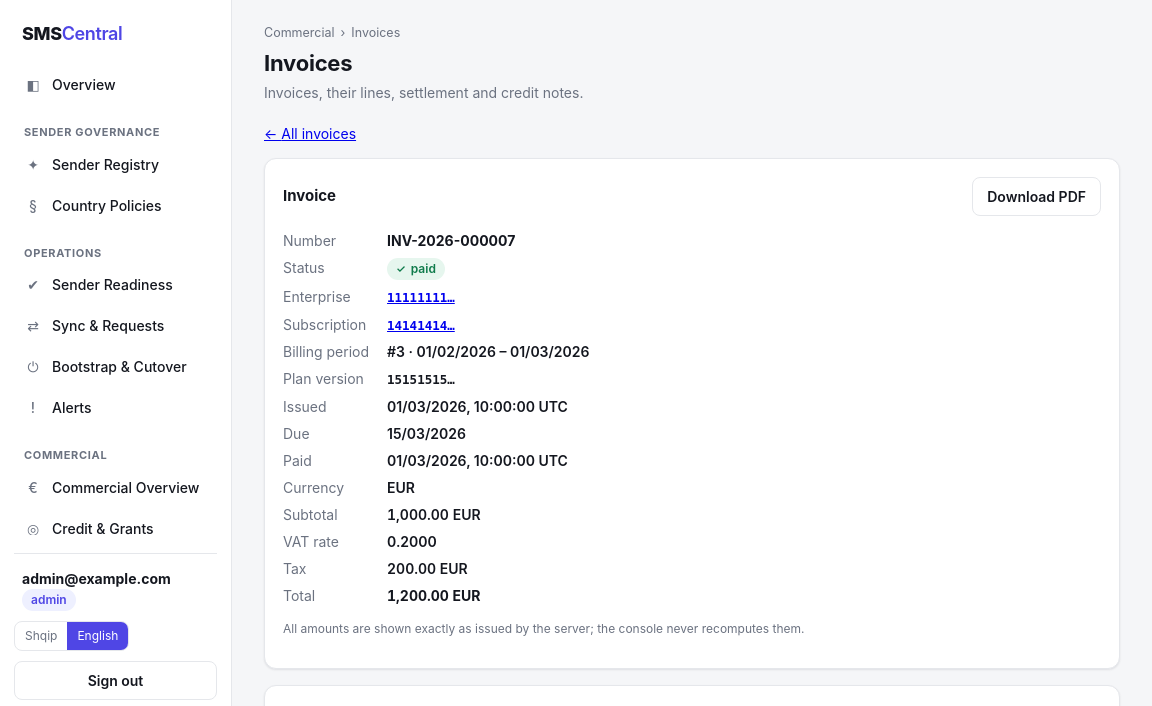
official invoice PDF — Central › 12 a 404 is a clean message and saves nothing
Check: the navigation bar named "Main navigation" is shown, box [14,65,217,535]
Click the button with aria-label "Download official PDF of invoice INV-2026-000007" at (1037, 196), box [972,177,1101,216]
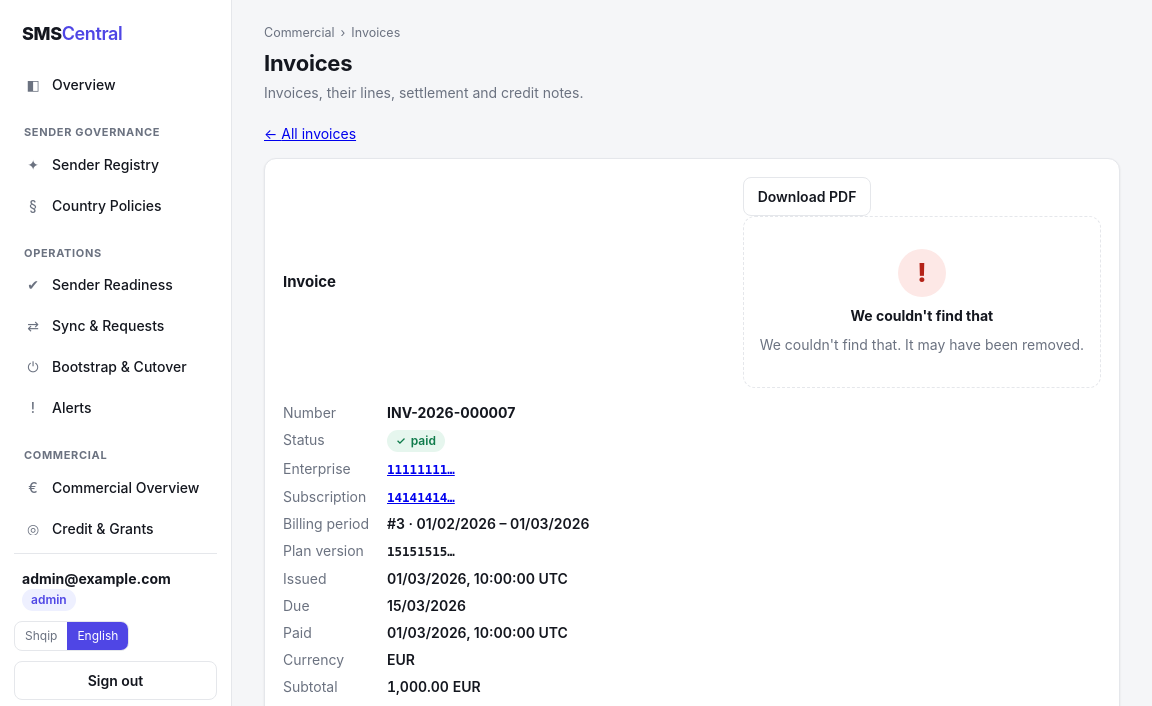
Check: the text "We couldn't find that" is shown, box [850,305,993,326]
